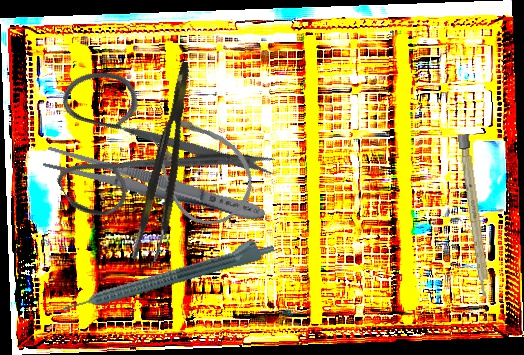Cannula: (130, 95, 269, 240)
Dressing Forceps: (41, 142, 269, 229)
Handpiece: (58, 232, 277, 317)
Iris Scissors: (16, 12, 282, 273)
Scalpel Handle: (457, 134, 492, 299)
Tissue Forceps: (129, 60, 209, 266)
